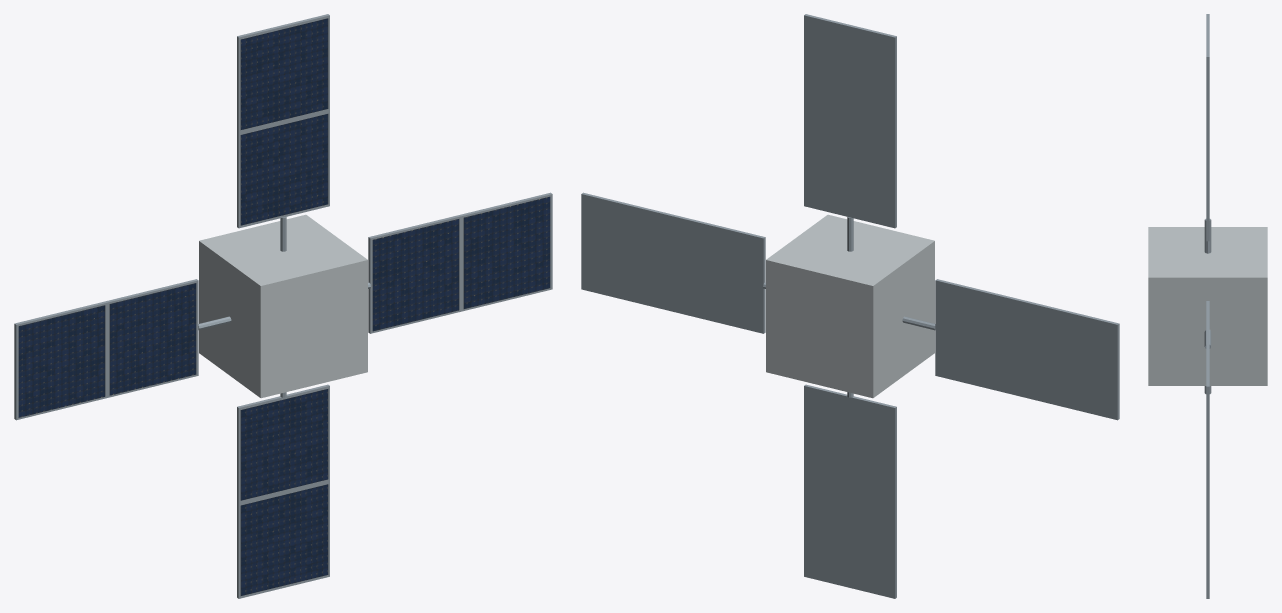
Rendered from ref-lsar-51284.glb.
3 views of the same model, side by side, from view 1: azimuth 30°, elevation 25°; view 2: azimuth 150°, elevation 25°; view 3: azimuth 270°, elevation 25° (orthographic). The views are drawn at different scales.
Visible parts, largest first — view 1: Photovoltaic laminates (×8), Spacecraft body, Array frame (×8); view 2: Array frame (×8), Spacecraft body; view 3: Spacecraft body, Array frame (×4), Solar array drive.
Boxes of the visible parts, bbox=[...] form: Photovoltaic laminates (×8): bbox=[18, 18, 550, 595]; Spacecraft body: bbox=[199, 214, 367, 398]; Array frame (×8): bbox=[14, 14, 552, 598]; Array frame (×8): bbox=[581, 14, 1119, 598]; Spacecraft body: bbox=[766, 214, 934, 398]; Spacecraft body: bbox=[1148, 227, 1267, 385]; Array frame (×4): bbox=[1206, 14, 1209, 598]; Solar array drive: bbox=[1204, 219, 1211, 253].
Size of the model in its own units: 10 by 10 by 2.
Materials: 3 (1 with a texture image).
